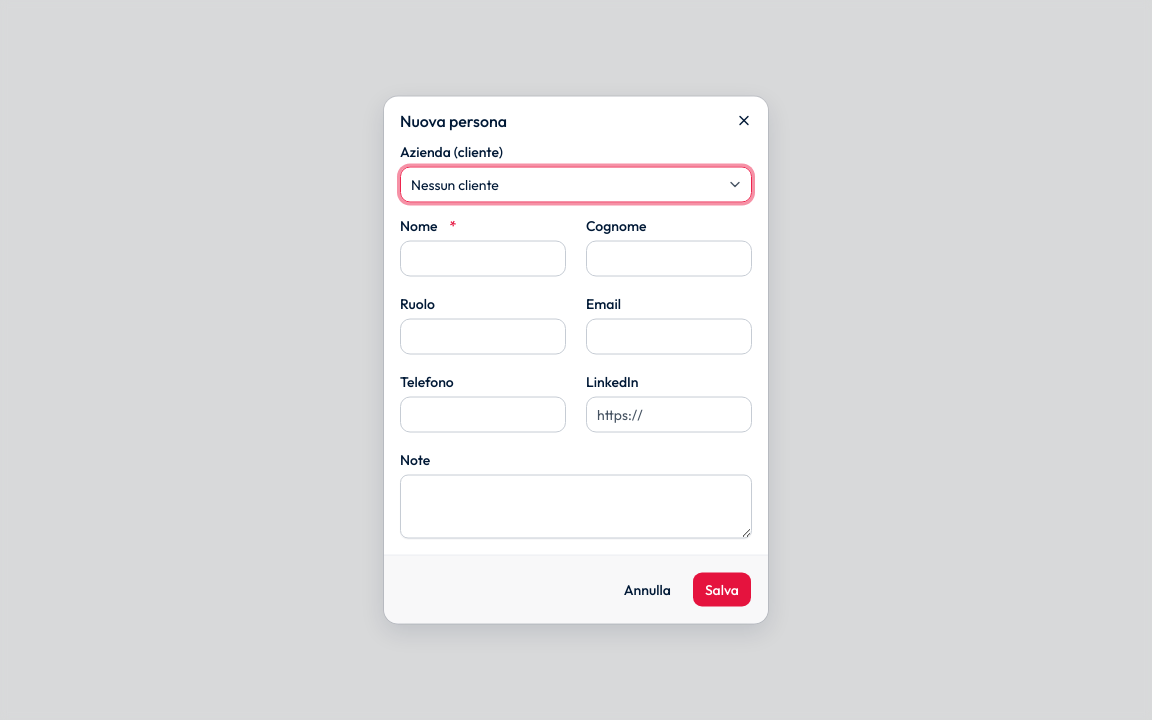
PersonForm › the Gmail sync notice › tells the user when a newly added address will start showing conversations
Expected: the text "le conversazioni con questo indirizzo compariranno al prossimo sync" is not shown
Type "ada@acme.it" into the field labelled "Email".
click(669, 336); type("ada@acme.it")  # box [586,318,752,354]
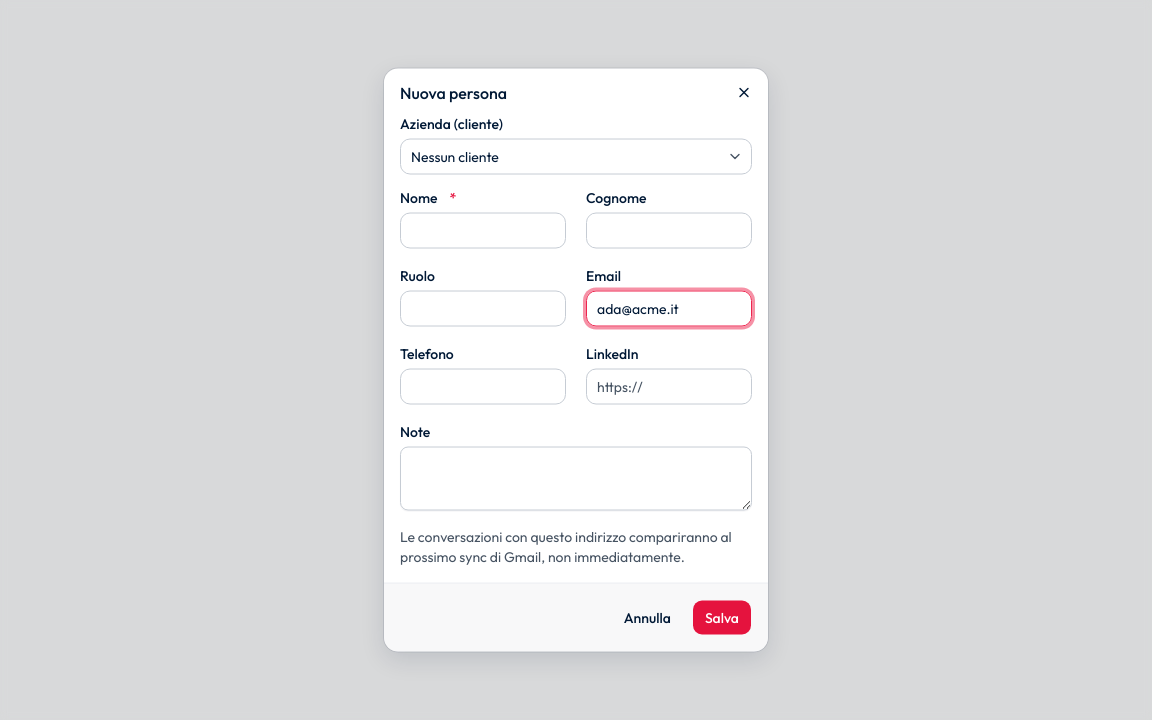
Now the text "Le conversazioni con questo indirizzo compariranno al prossimo sync" is shown, box [400,528,732,566]
